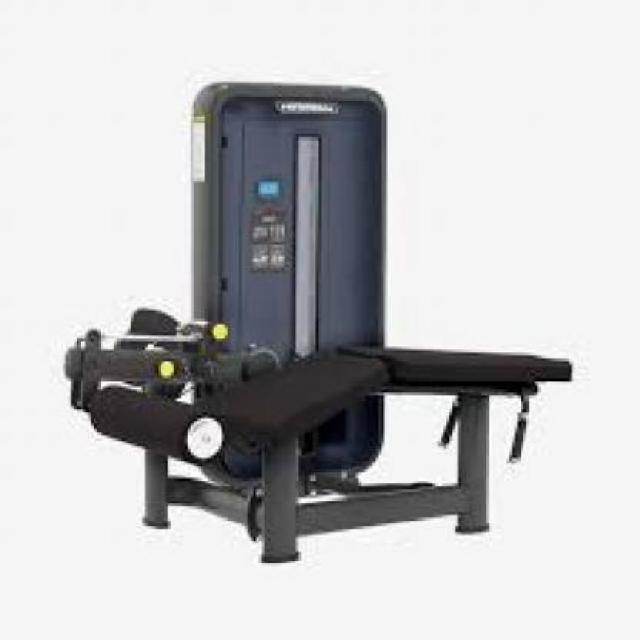reg curl machine: (64, 80, 578, 571)
